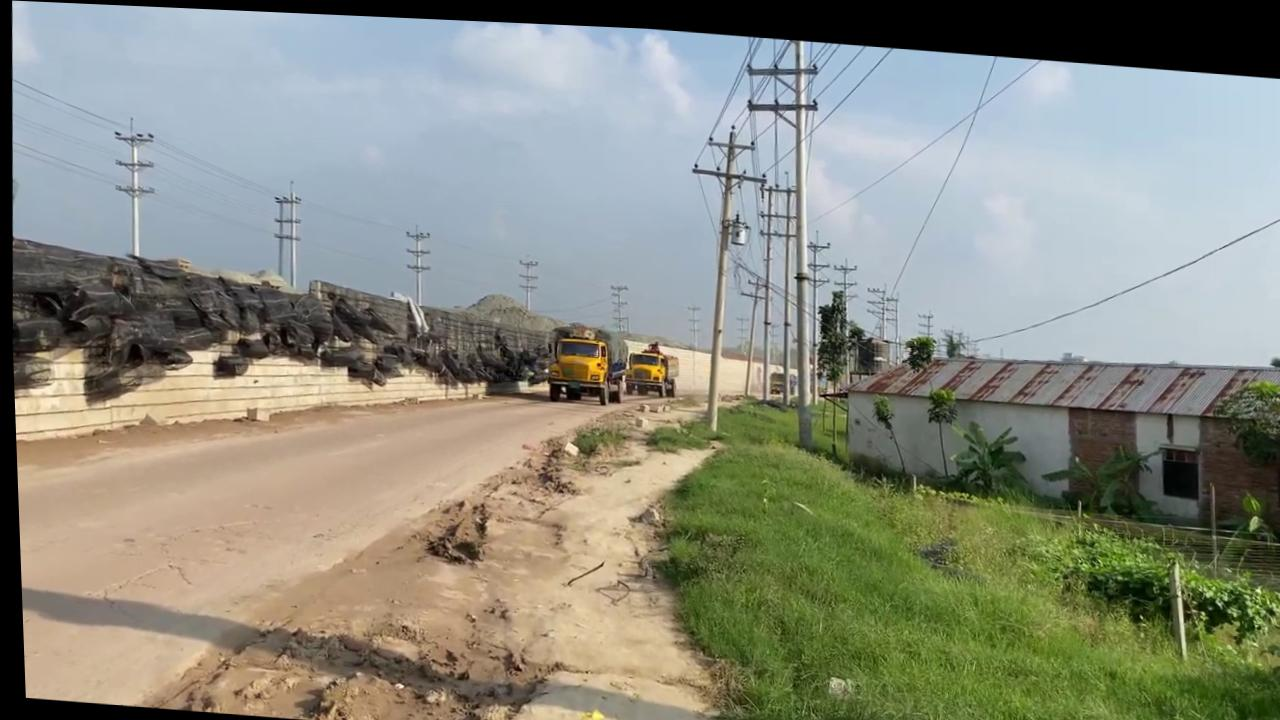Garbage: (7, 235, 555, 414)
Muddy road: (9, 322, 762, 720)
Pole: (777, 32, 828, 443)
Traffic-sign: (944, 408, 1026, 490), (919, 375, 957, 468), (899, 324, 935, 365)
Tree: (540, 317, 613, 401), (618, 333, 676, 392)
